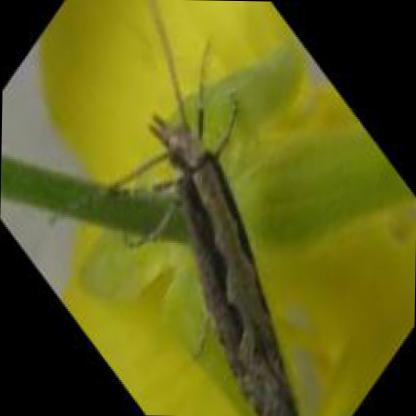plutella: (58, 2, 302, 415)
